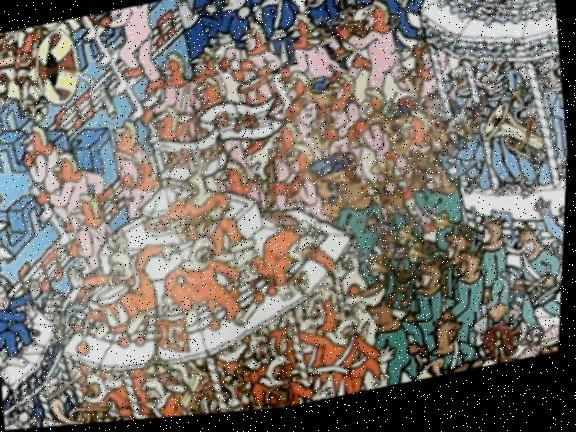waldo: (416, 94, 449, 136)
